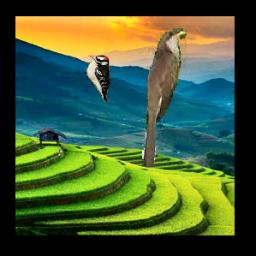Cuckoo: (142, 29, 187, 167)
Woodpecker: (85, 56, 110, 103)
